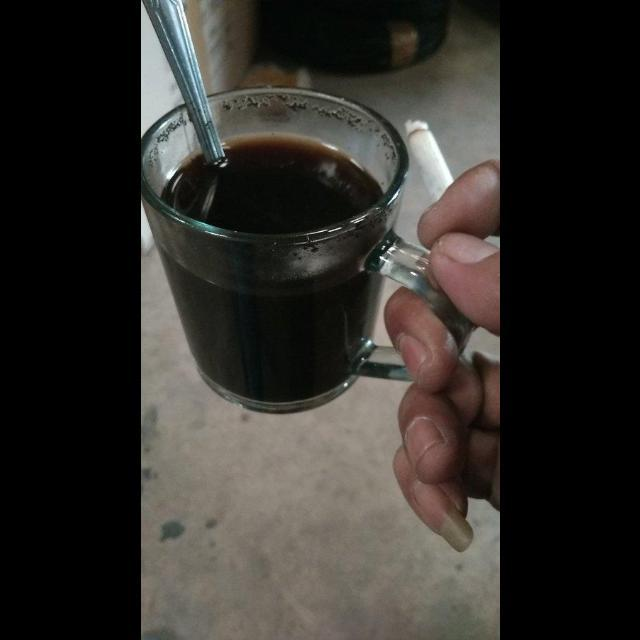rokok: (402, 118, 454, 196)
